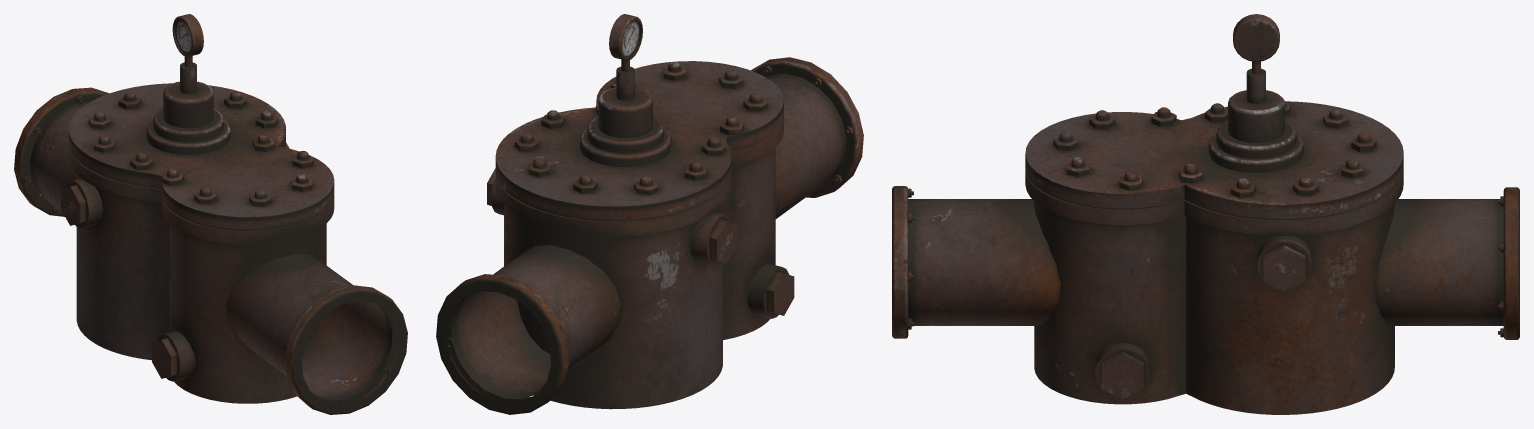
Rendered from keiki.fbx.
The picture shows the model from 3 angles, left to right: view 1: azimuth 30°, elevation 25°; view 2: azimuth 150°, elevation 25°; view 3: azimuth 270°, elevation 25°; orthographic projection. The views are drawn at different scales.
Visible parts, largest first — view 1: 05_01_0; view 2: 05_01_0; view 3: 05_01_0.
Boxes of the visible parts, <box> form: 05_01_0: <box>14,14,407,414</box>; 05_01_0: <box>436,14,863,414</box>; 05_01_0: <box>892,14,1519,414</box>.
Size of the model in its own units: 86.77 by 122 by 198.
Materials: 1 (1 with a texture image).
